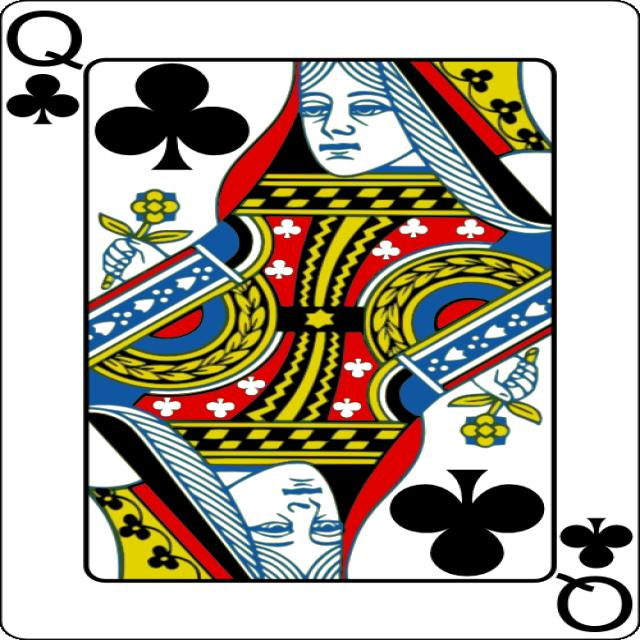Club: (94, 63, 250, 170), (389, 469, 545, 576), (5, 73, 79, 124), (561, 518, 633, 568)
Queen: (6, 10, 83, 70), (556, 573, 633, 632)
